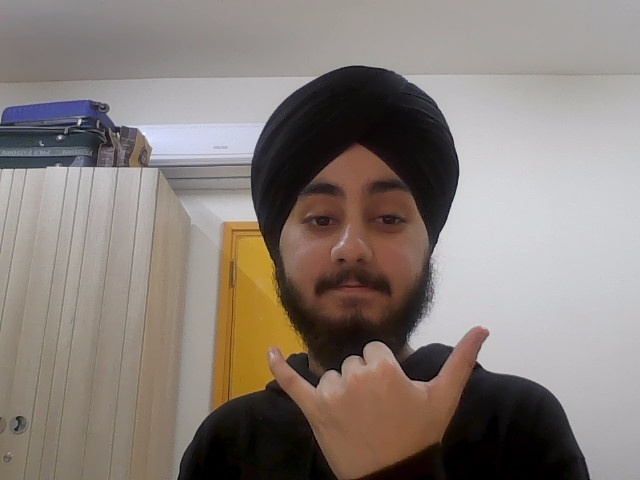Wrong: (254, 321, 493, 475)
